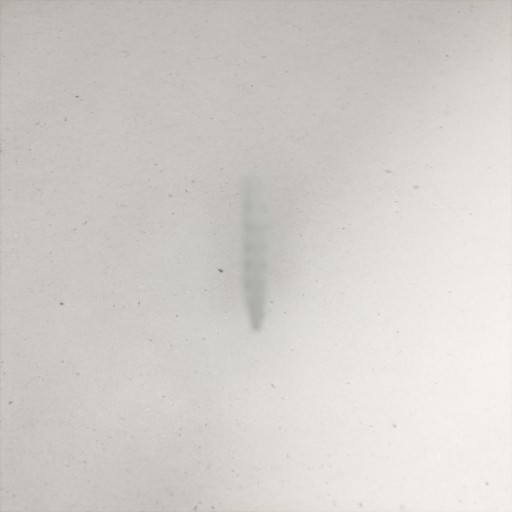lego: (242, 176, 270, 333)
